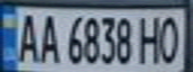3: (100, 14, 118, 65)
6: (60, 12, 84, 65)
8: (81, 12, 103, 65), (115, 14, 136, 65)
A: (12, 9, 42, 64), (33, 11, 60, 64)
H: (136, 12, 163, 65)
O: (157, 11, 184, 65)
